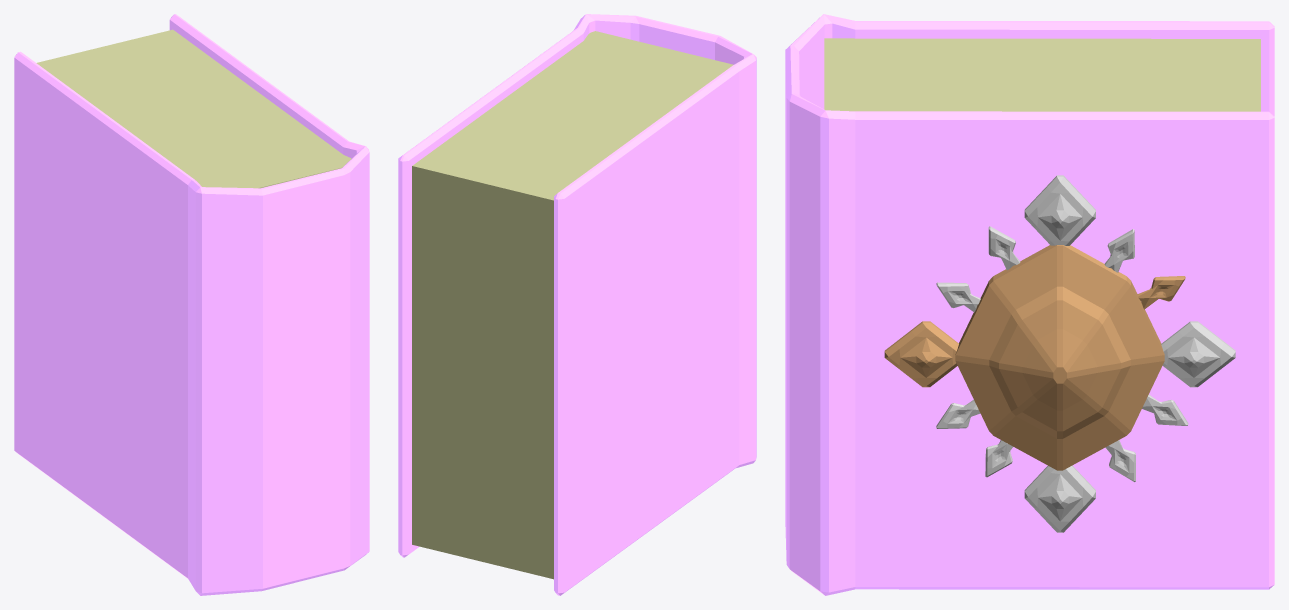
The model's file is book.fbx.
3 renders of one model, left to right at view 1: azimuth 30°, elevation 25°; view 2: azimuth 150°, elevation 25°; view 3: azimuth 270°, elevation 25°, orthographic. The views are drawn at different scales.
Visible parts, largest first — view 1: Cube.001, Cube; view 2: Cube.001, Cube; view 3: Cube.001, Cylinder, Cube, Cube.005, Cube.003, Cube.004, Cube.006, Cube.012, Cube.010, Cube.008, Cube.007, Cube.013 (+3 smaller).
Boxes of the visible parts, x1=… form: Cube.001: x1=14, y1=14, x2=369, y2=595; Cube: x1=36, y1=29, x2=351, y2=188; Cube.001: x1=398, y1=14, x2=756, y2=595; Cube: x1=412, y1=31, x2=733, y2=579; Cube.001: x1=785, y1=14, x2=1274, y2=595; Cylinder: x1=955, y1=245, x2=1164, y2=470; Cube: x1=824, y1=38, x2=1260, y2=111; Cube.005: x1=1024, y1=175, x2=1095, y2=245; Cube.003: x1=1161, y1=321, x2=1235, y2=387; Cube.004: x1=884, y1=321, x2=958, y2=387; Cube.006: x1=1024, y1=465, x2=1095, y2=532; Cube.012: x1=1137, y1=276, x2=1185, y2=309; Cube.010: x1=1142, y1=394, x2=1188, y2=425; Cube.008: x1=988, y1=226, x2=1020, y2=270; Cube.007: x1=936, y1=282, x2=980, y2=312; Cube.013: x1=936, y1=399, x2=980, y2=428.
Bounding box in the file's own units: 163 × 305 × 279.
